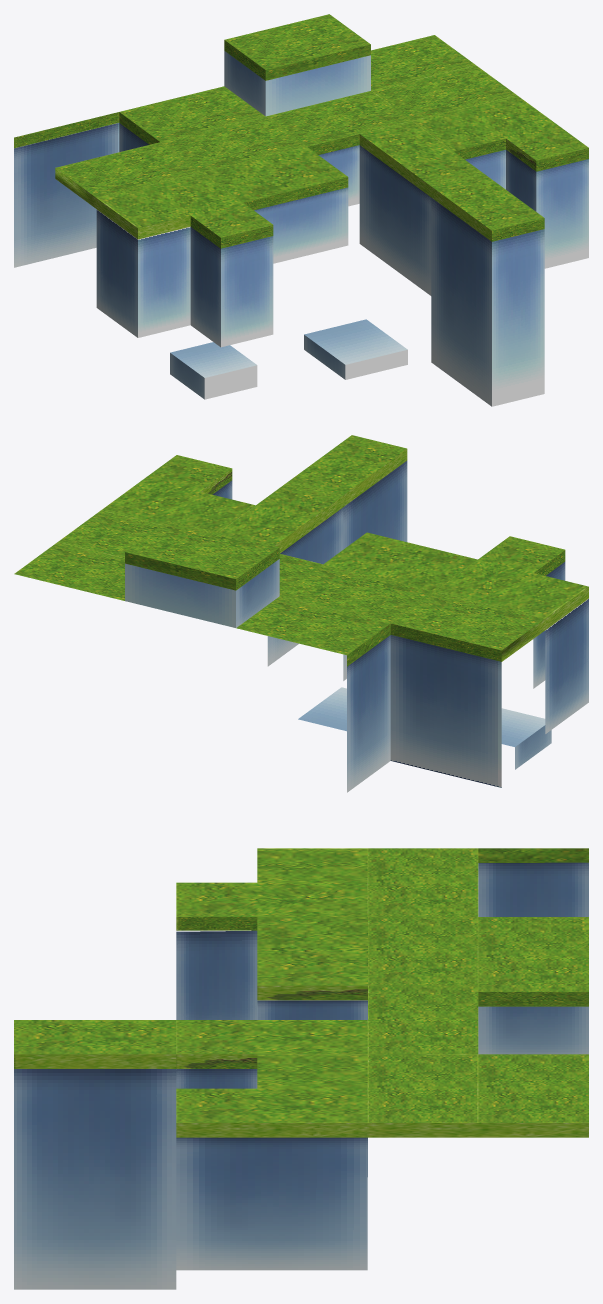
File: a_ESDground01e.glb
3 renders of one model, top to bottom at view 1: azimuth 30°, elevation 25°; view 2: azimuth 150°, elevation 25°; view 3: azimuth 270°, elevation 25°, orthographic. The views are drawn at different scales.
Visible parts, largest first — view 1: a_ESDground01e; view 2: a_ESDground01e; view 3: a_ESDground01e.
Boxes of the visible parts, x1,y1,x2,y2 form: a_ESDground01e: (14,14,588,406); a_ESDground01e: (14,435,588,792); a_ESDground01e: (14,848,588,1289).
Bounding box in the file's own units: 2 × 1.05 × 1.77.
Materials: 2 (2 with a texture image).
